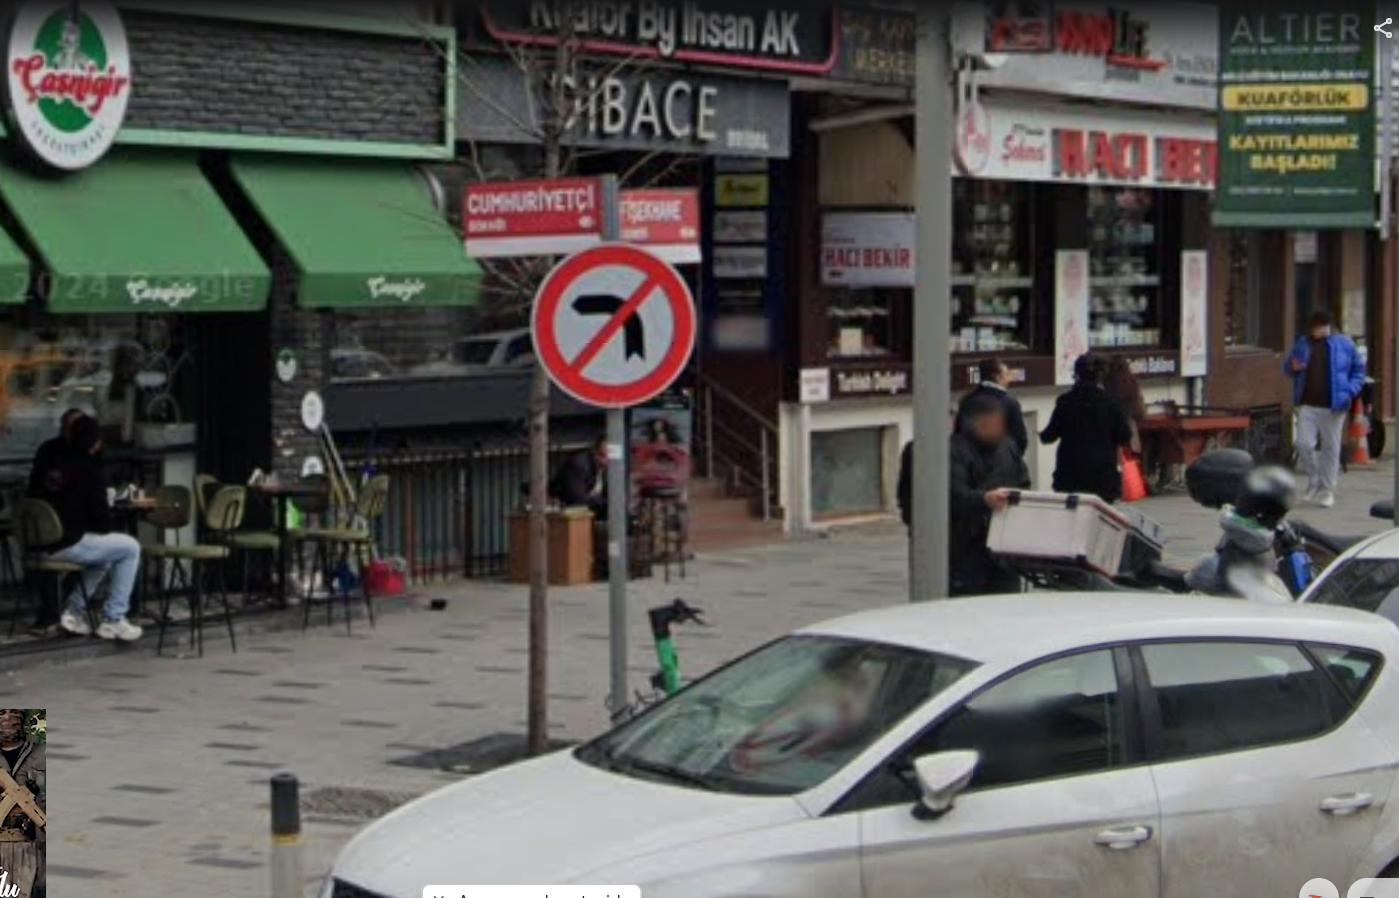leftturnsareforbidden: (541, 245, 689, 407)
